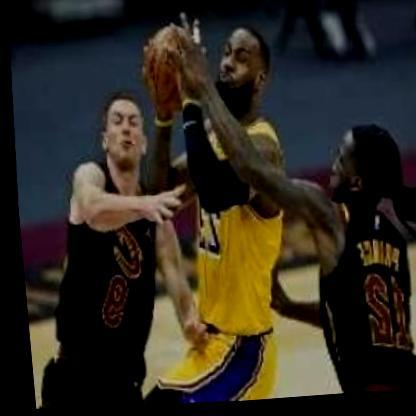basketball: (139, 20, 206, 122)
